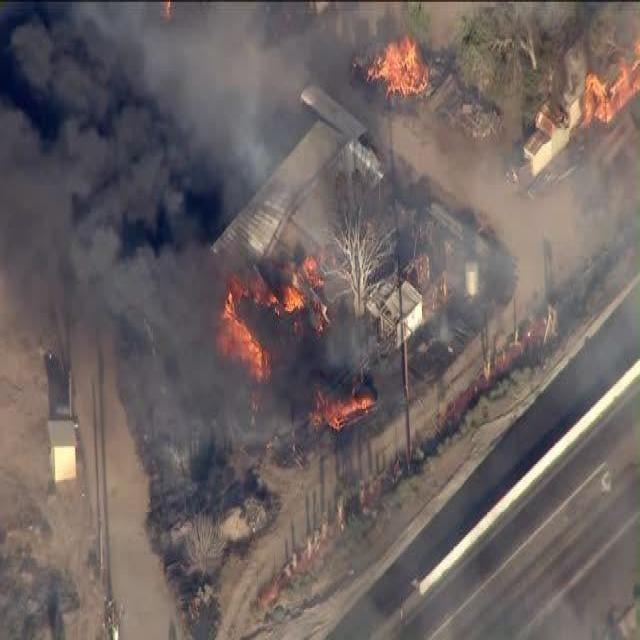Fire: (220, 269, 290, 370), (582, 76, 640, 140), (374, 37, 428, 95), (320, 400, 382, 422), (526, 138, 552, 176)
Smoke: (16, 18, 188, 252)
